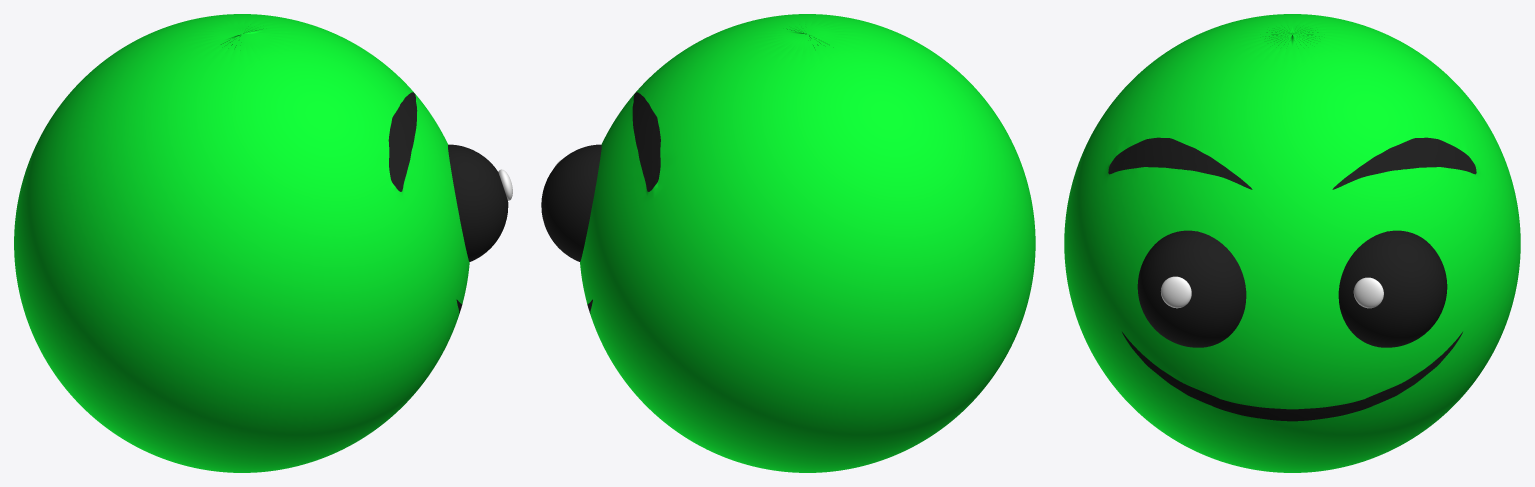
Rendered from normal_geometry_dash.glb.
3 renders of one model, left to right at view 1: azimuth 30°, elevation 25°; view 2: azimuth 150°, elevation 25°; view 3: azimuth 270°, elevation 25°, orthographic.
Visible parts, largest first — view 1: Face_1, Eyes_0; view 2: Face_1, Eyes_0; view 3: Face_1, Eyes_0, DotEyes.001_3, DotEyes_2.
Part boxes in pixels (left/top/right/bottom): Face_1: left=14, top=14, right=469, bottom=472; Eyes_0: left=448, top=144, right=508, bottom=261; Face_1: left=580, top=14, right=1035, bottom=472; Eyes_0: left=541, top=144, right=601, bottom=261; Face_1: left=1064, top=14, right=1520, bottom=472; Eyes_0: left=1137, top=230, right=1447, bottom=347; DotEyes.001_3: left=1161, top=276, right=1191, bottom=308; DotEyes_2: left=1353, top=277, right=1383, bottom=308.
Bounding box in the file's own units: 5.12 × 5 × 4.94.
